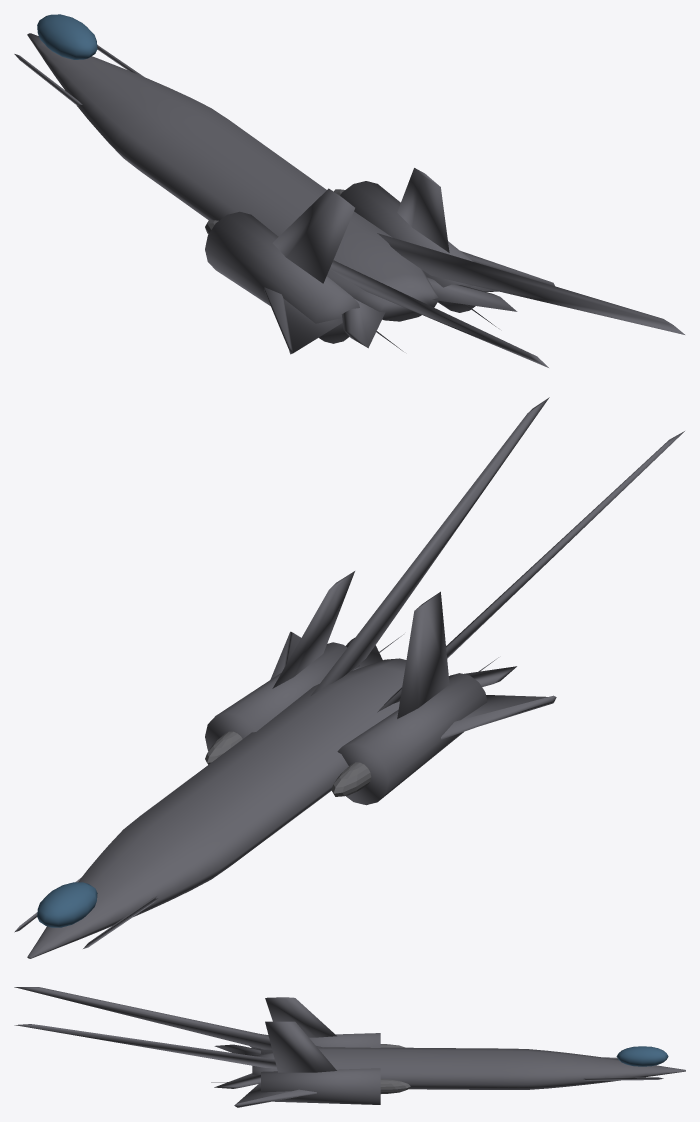
3 renders of one model, top to bottom at view 1: azimuth 30°, elevation 25°; view 2: azimuth 150°, elevation 25°; view 3: azimuth 270°, elevation 25°, orthographic. The views are drawn at different scales.
Parts seen in each view (by area): view 1: Body, Canopy; view 2: Body, Canopy, Detail; view 3: Body, Canopy, Detail.
Boxes of the visible parts, x1,y1,x2,y2 form: Body: (14,33,684,367); Canopy: (37,14,97,59); Body: (14,397,684,958); Canopy: (37,882,97,927); Detail: (205,731,371,796); Body: (14,987,685,1107); Canopy: (616,1046,668,1066); Detail: (380,1044,410,1093).
Bounding box in the file's own units: 1200 × 611 × 4648.
